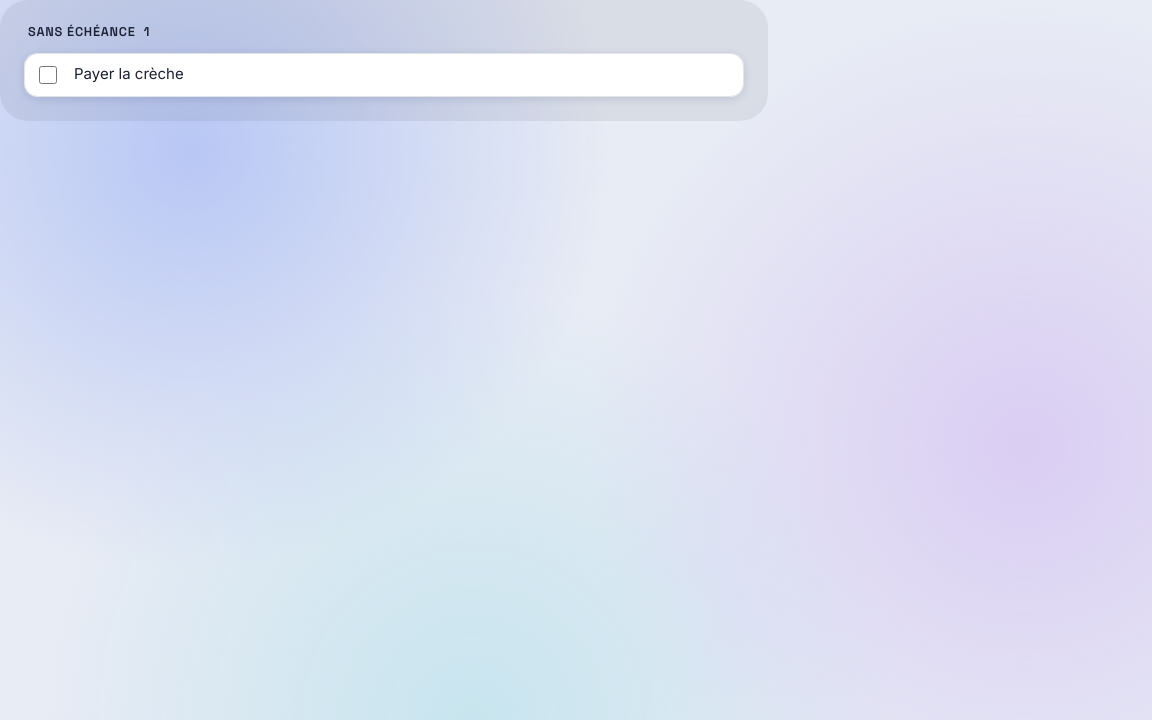
Test: liste des tâches : cocher › panne sans code : message générique dans la ligne
Click the checkbox at (48, 74), box [39,66,57,84]
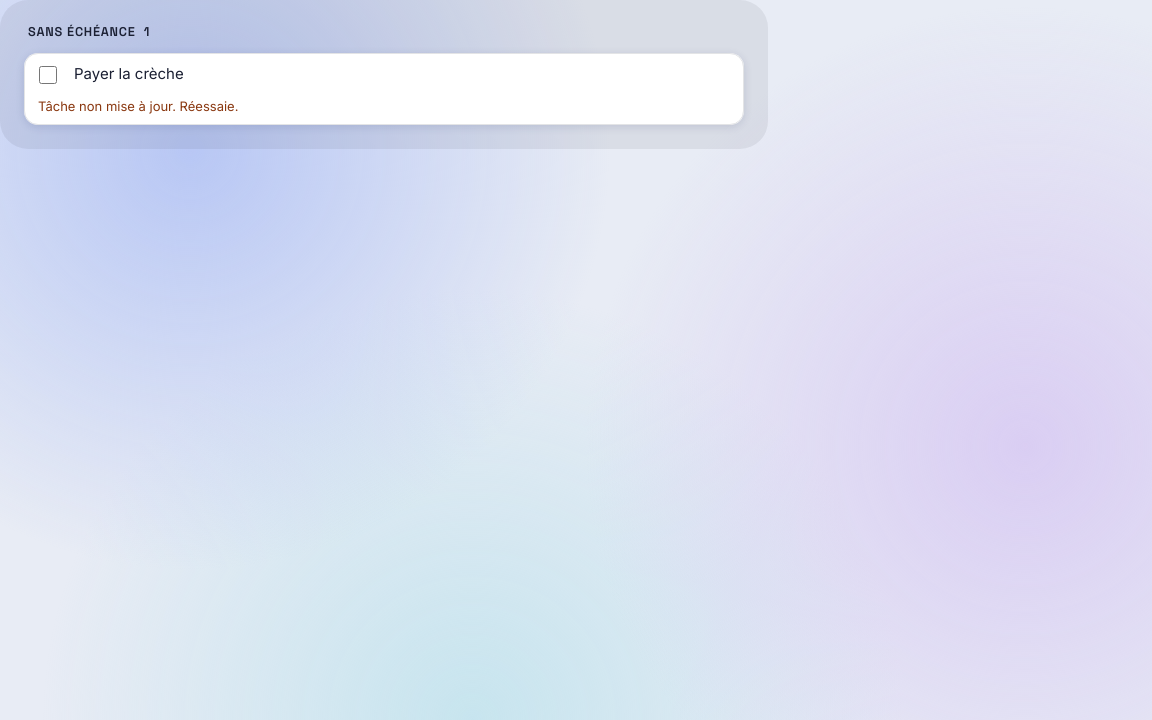
Now the text "Tâche non mise à jour. Réessaie." is shown, box [38,98,238,114]
